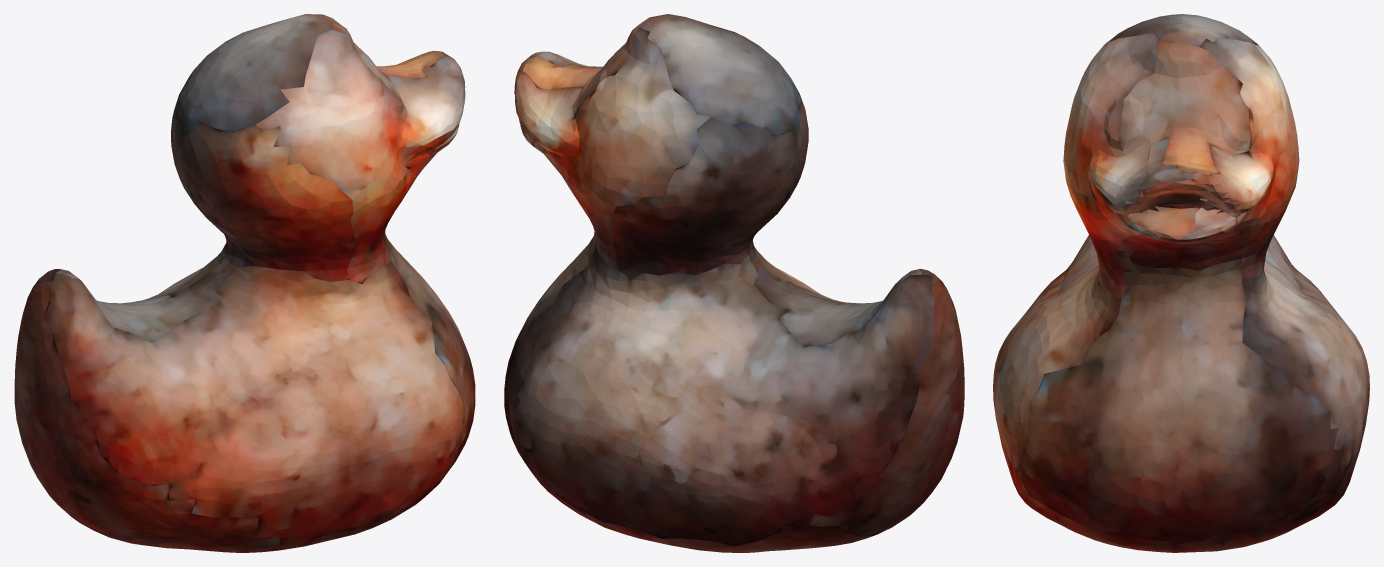
File: duck.glb
The picture shows the model from 3 angles, left to right: view 1: azimuth 30°, elevation 25°; view 2: azimuth 150°, elevation 25°; view 3: azimuth 270°, elevation 25°; orthographic projection. The views are drawn at different scales.
Visible parts, largest first — view 1: base_duck; view 2: base_duck; view 3: base_duck.
Part boxes in pixels (box(x1,y1,x2,y2)): base_duck: box(14, 14, 475, 552); base_duck: box(504, 14, 964, 552); base_duck: box(993, 14, 1369, 552).
Size of the model in its own units: 1.94 by 1.98 by 1.42.
Materials: 1 (1 with a texture image).
